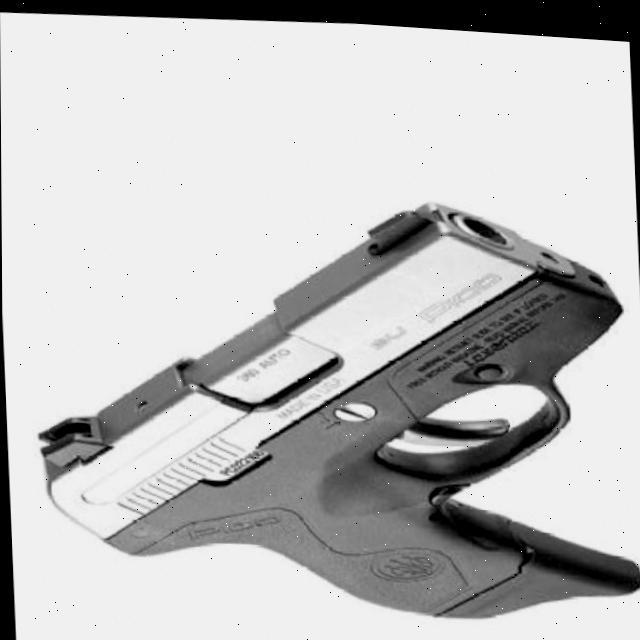gun: (14, 167, 640, 640)
